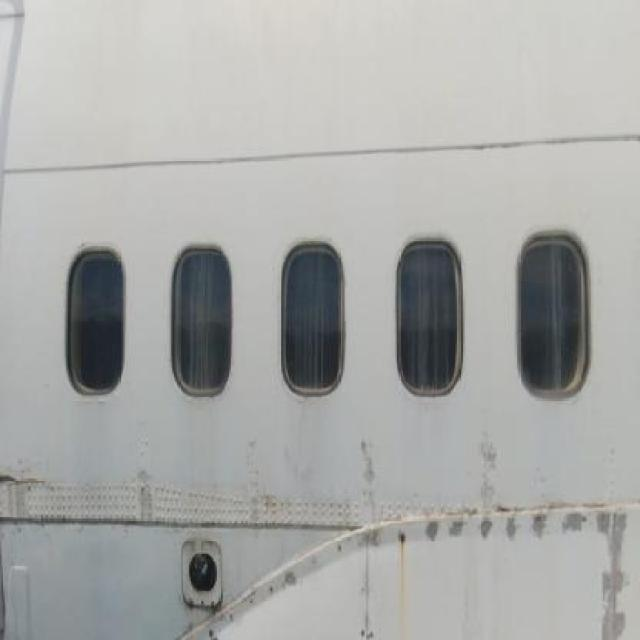Missing-Rivet: (186, 558, 322, 634), (351, 531, 377, 640)
Rust: (391, 521, 414, 640)
Scartch: (228, 424, 301, 538), (118, 423, 182, 552), (411, 504, 592, 548), (467, 413, 515, 538), (594, 504, 637, 640), (345, 425, 398, 520), (6, 439, 51, 543)
